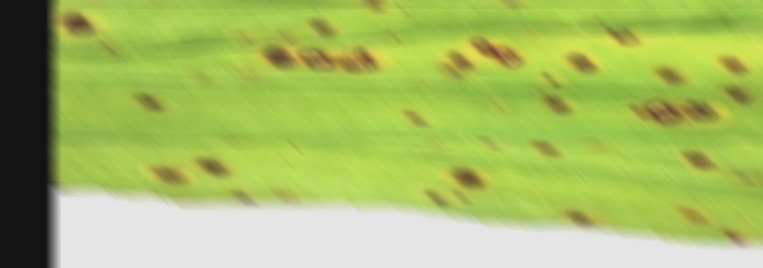Bacterial_Leaf_Blight: (636, 88, 746, 123), (661, 137, 726, 173), (539, 84, 588, 125), (540, 205, 615, 228), (233, 185, 311, 207), (671, 197, 718, 232), (144, 153, 193, 186), (601, 14, 648, 48), (558, 44, 600, 79), (59, 5, 98, 41), (343, 45, 382, 80), (254, 42, 298, 72), (437, 53, 481, 83), (192, 143, 230, 174), (493, 44, 525, 78), (526, 130, 561, 161), (389, 109, 443, 129), (711, 218, 748, 245), (650, 63, 694, 85), (136, 86, 168, 116), (299, 43, 334, 69), (720, 49, 751, 76), (306, 19, 340, 43), (447, 169, 492, 187), (468, 33, 496, 54), (426, 193, 451, 213), (362, 2, 386, 21)
